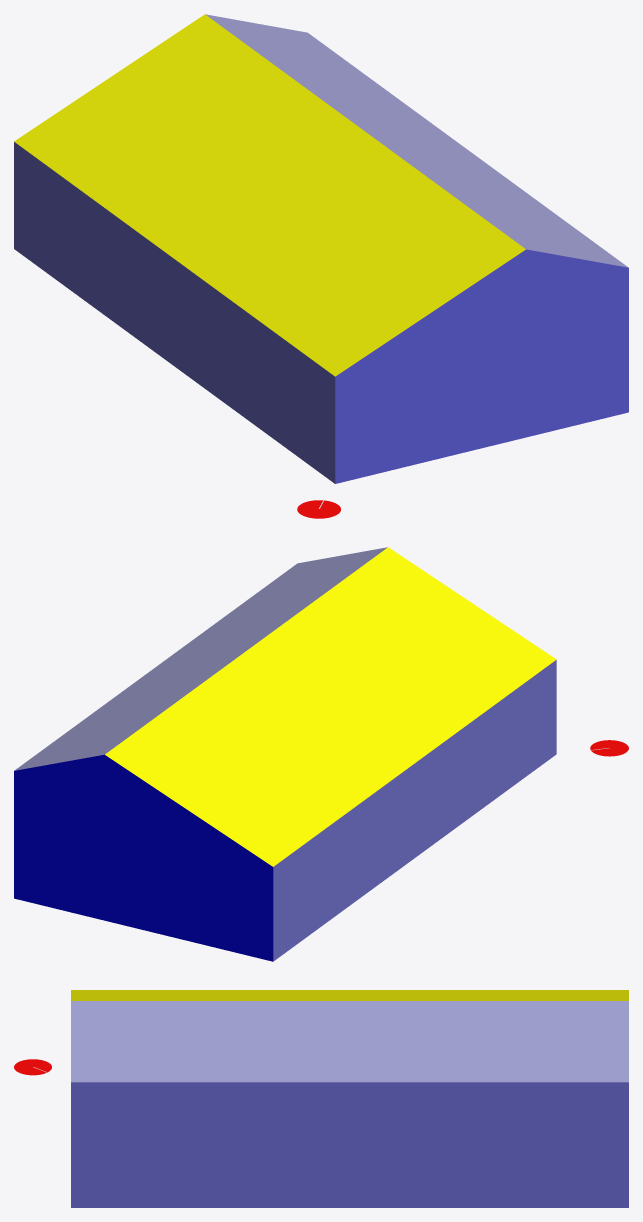
The model's file is result.glb.
3 renders of one model, top to bottom at view 1: azimuth 30°, elevation 25°; view 2: azimuth 150°, elevation 25°; view 3: azimuth 270°, elevation 25°, orthographic. The views are drawn at different scales.
Visible parts, largest first — view 1: e4341d3a-4b01-4f70-8777-eaecd6ca46c6__undefined, bb50b421-e79e-41df-a125-43e55ecb5616__undefined, 077225b5-671b-4d01-9fef-b6492b2faf43__undefined, 2237912f-41f2-40d0-8cd8-0826c15f6be2__undefined; view 2: e4341d3a-4b01-4f70-8777-eaecd6ca46c6__undefined, b3dda664-8dc9-4655-9887-790bf5500100__undefined, 077225b5-671b-4d01-9fef-b6492b2faf43__undefined, 2237912f-41f2-40d0-8cd8-0826c15f6be2__undefined; view 3: 58d4a295-0b08-4312-bd5d-6b7f90853eff__undefined, 2237912f-41f2-40d0-8cd8-0826c15f6be2__undefined, e4341d3a-4b01-4f70-8777-eaecd6ca46c6__undefined, 89d62130-05fc-465c-b33c-326ee1f1a9f3__Circle.
Boxes of the visible parts, <box> form: e4341d3a-4b01-4f70-8777-eaecd6ca46c6__undefined: <box>14,14,525,376</box>; bb50b421-e79e-41df-a125-43e55ecb5616__undefined: <box>335,249,628,483</box>; 077225b5-671b-4d01-9fef-b6492b2faf43__undefined: <box>14,142,335,483</box>; 2237912f-41f2-40d0-8cd8-0826c15f6be2__undefined: <box>205,14,628,267</box>; e4341d3a-4b01-4f70-8777-eaecd6ca46c6__undefined: <box>105,547,556,866</box>; b3dda664-8dc9-4655-9887-790bf5500100__undefined: <box>14,754,273,961</box>; 077225b5-671b-4d01-9fef-b6492b2faf43__undefined: <box>273,660,556,961</box>; 2237912f-41f2-40d0-8cd8-0826c15f6be2__undefined: <box>14,547,387,770</box>; 58d4a295-0b08-4312-bd5d-6b7f90853eff__undefined: <box>71,1082,628,1207</box>; 2237912f-41f2-40d0-8cd8-0826c15f6be2__undefined: <box>71,1001,628,1082</box>; e4341d3a-4b01-4f70-8777-eaecd6ca46c6__undefined: <box>71,990,628,1000</box>; 89d62130-05fc-465c-b33c-326ee1f1a9f3__Circle: <box>14,1059,51,1075</box>.
Bounding box in the file's own units: 923 × 473 × 1614.
